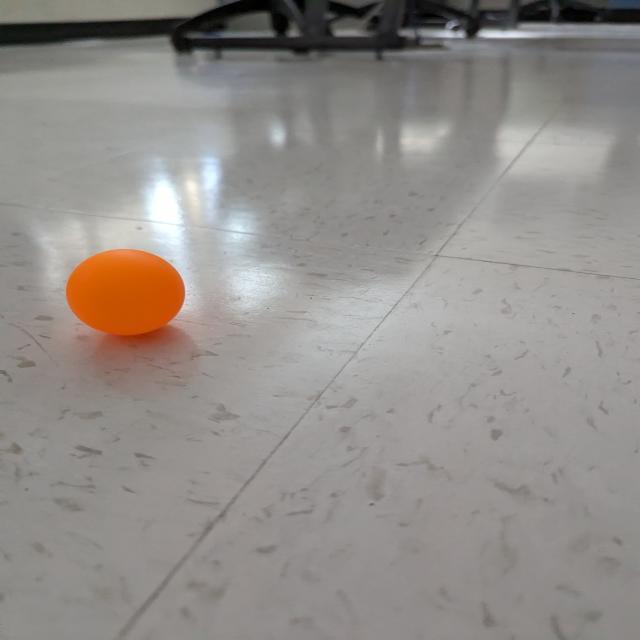ping-pong-ball: (54, 241, 192, 347)
